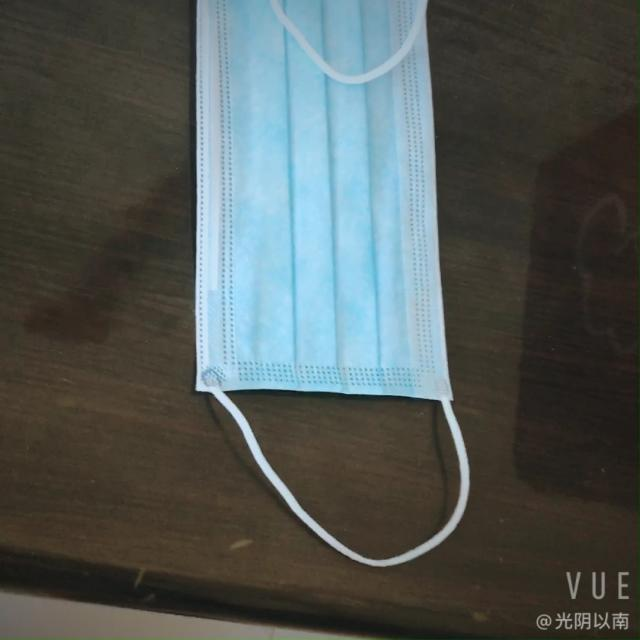face mask: (175, 3, 452, 402)
